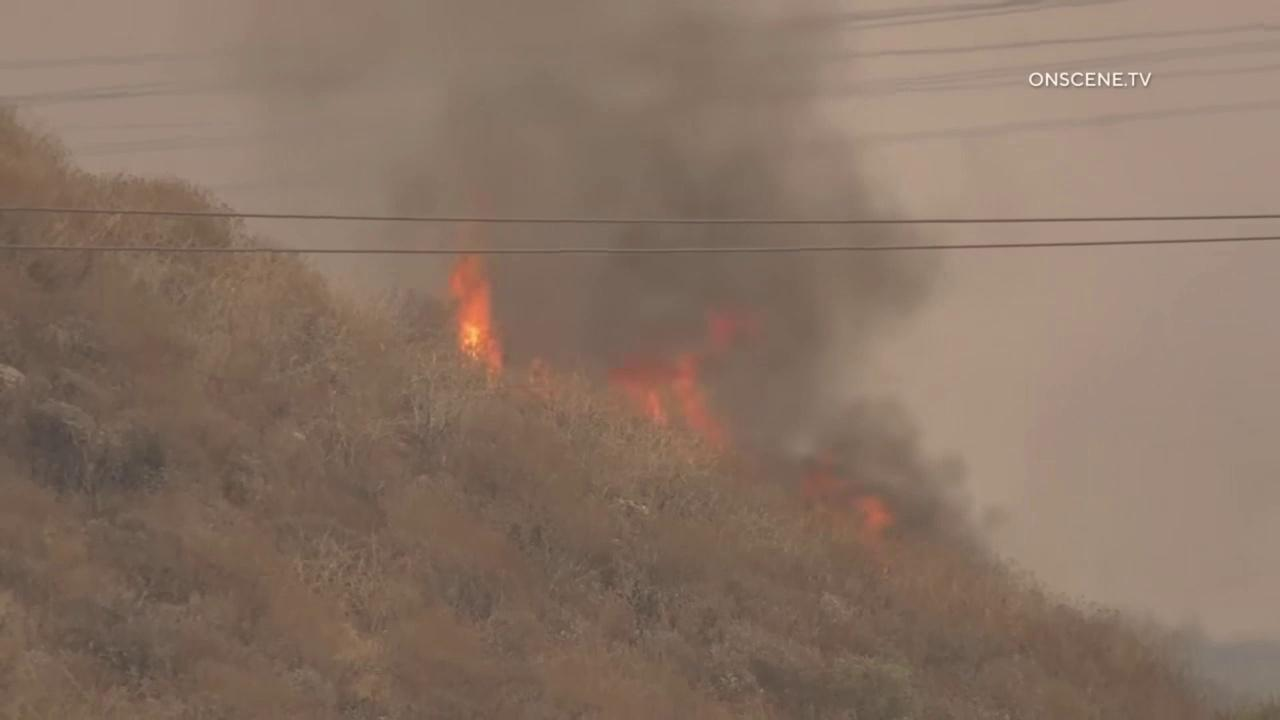fire: (598, 301, 738, 459), (796, 441, 896, 565), (448, 246, 506, 376)
smoke: (0, 0, 1280, 720)
